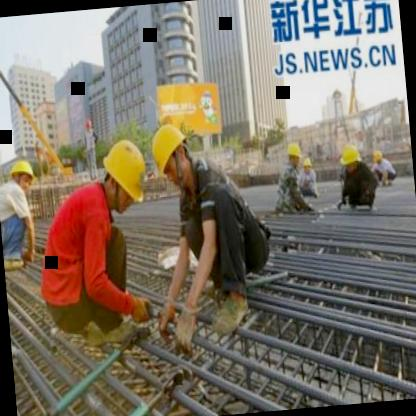helmet: (95, 128, 155, 216), (146, 117, 199, 191), (4, 154, 38, 192), (338, 143, 364, 179), (282, 137, 304, 169)
